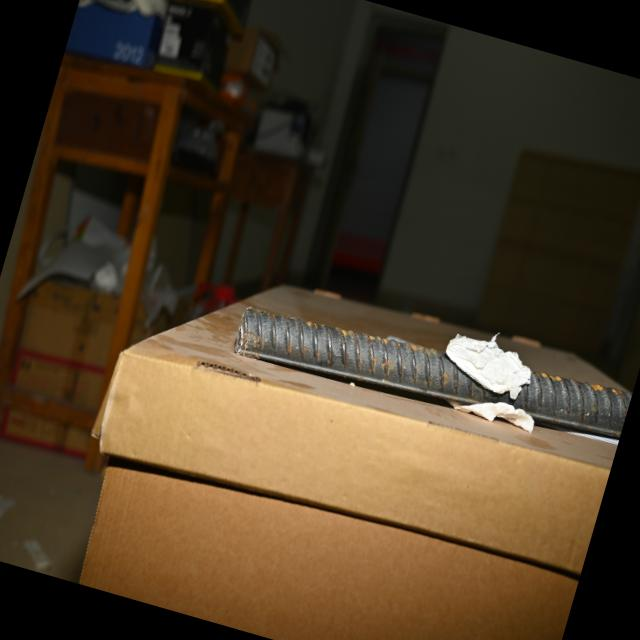ribbed bar: (225, 275, 634, 468)
